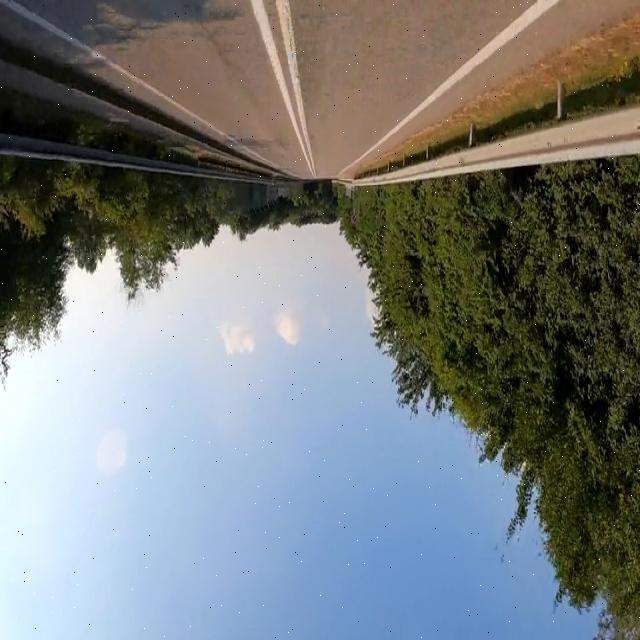lane: (339, 1, 558, 175), (251, 1, 313, 173)
road: (0, 2, 639, 179)
